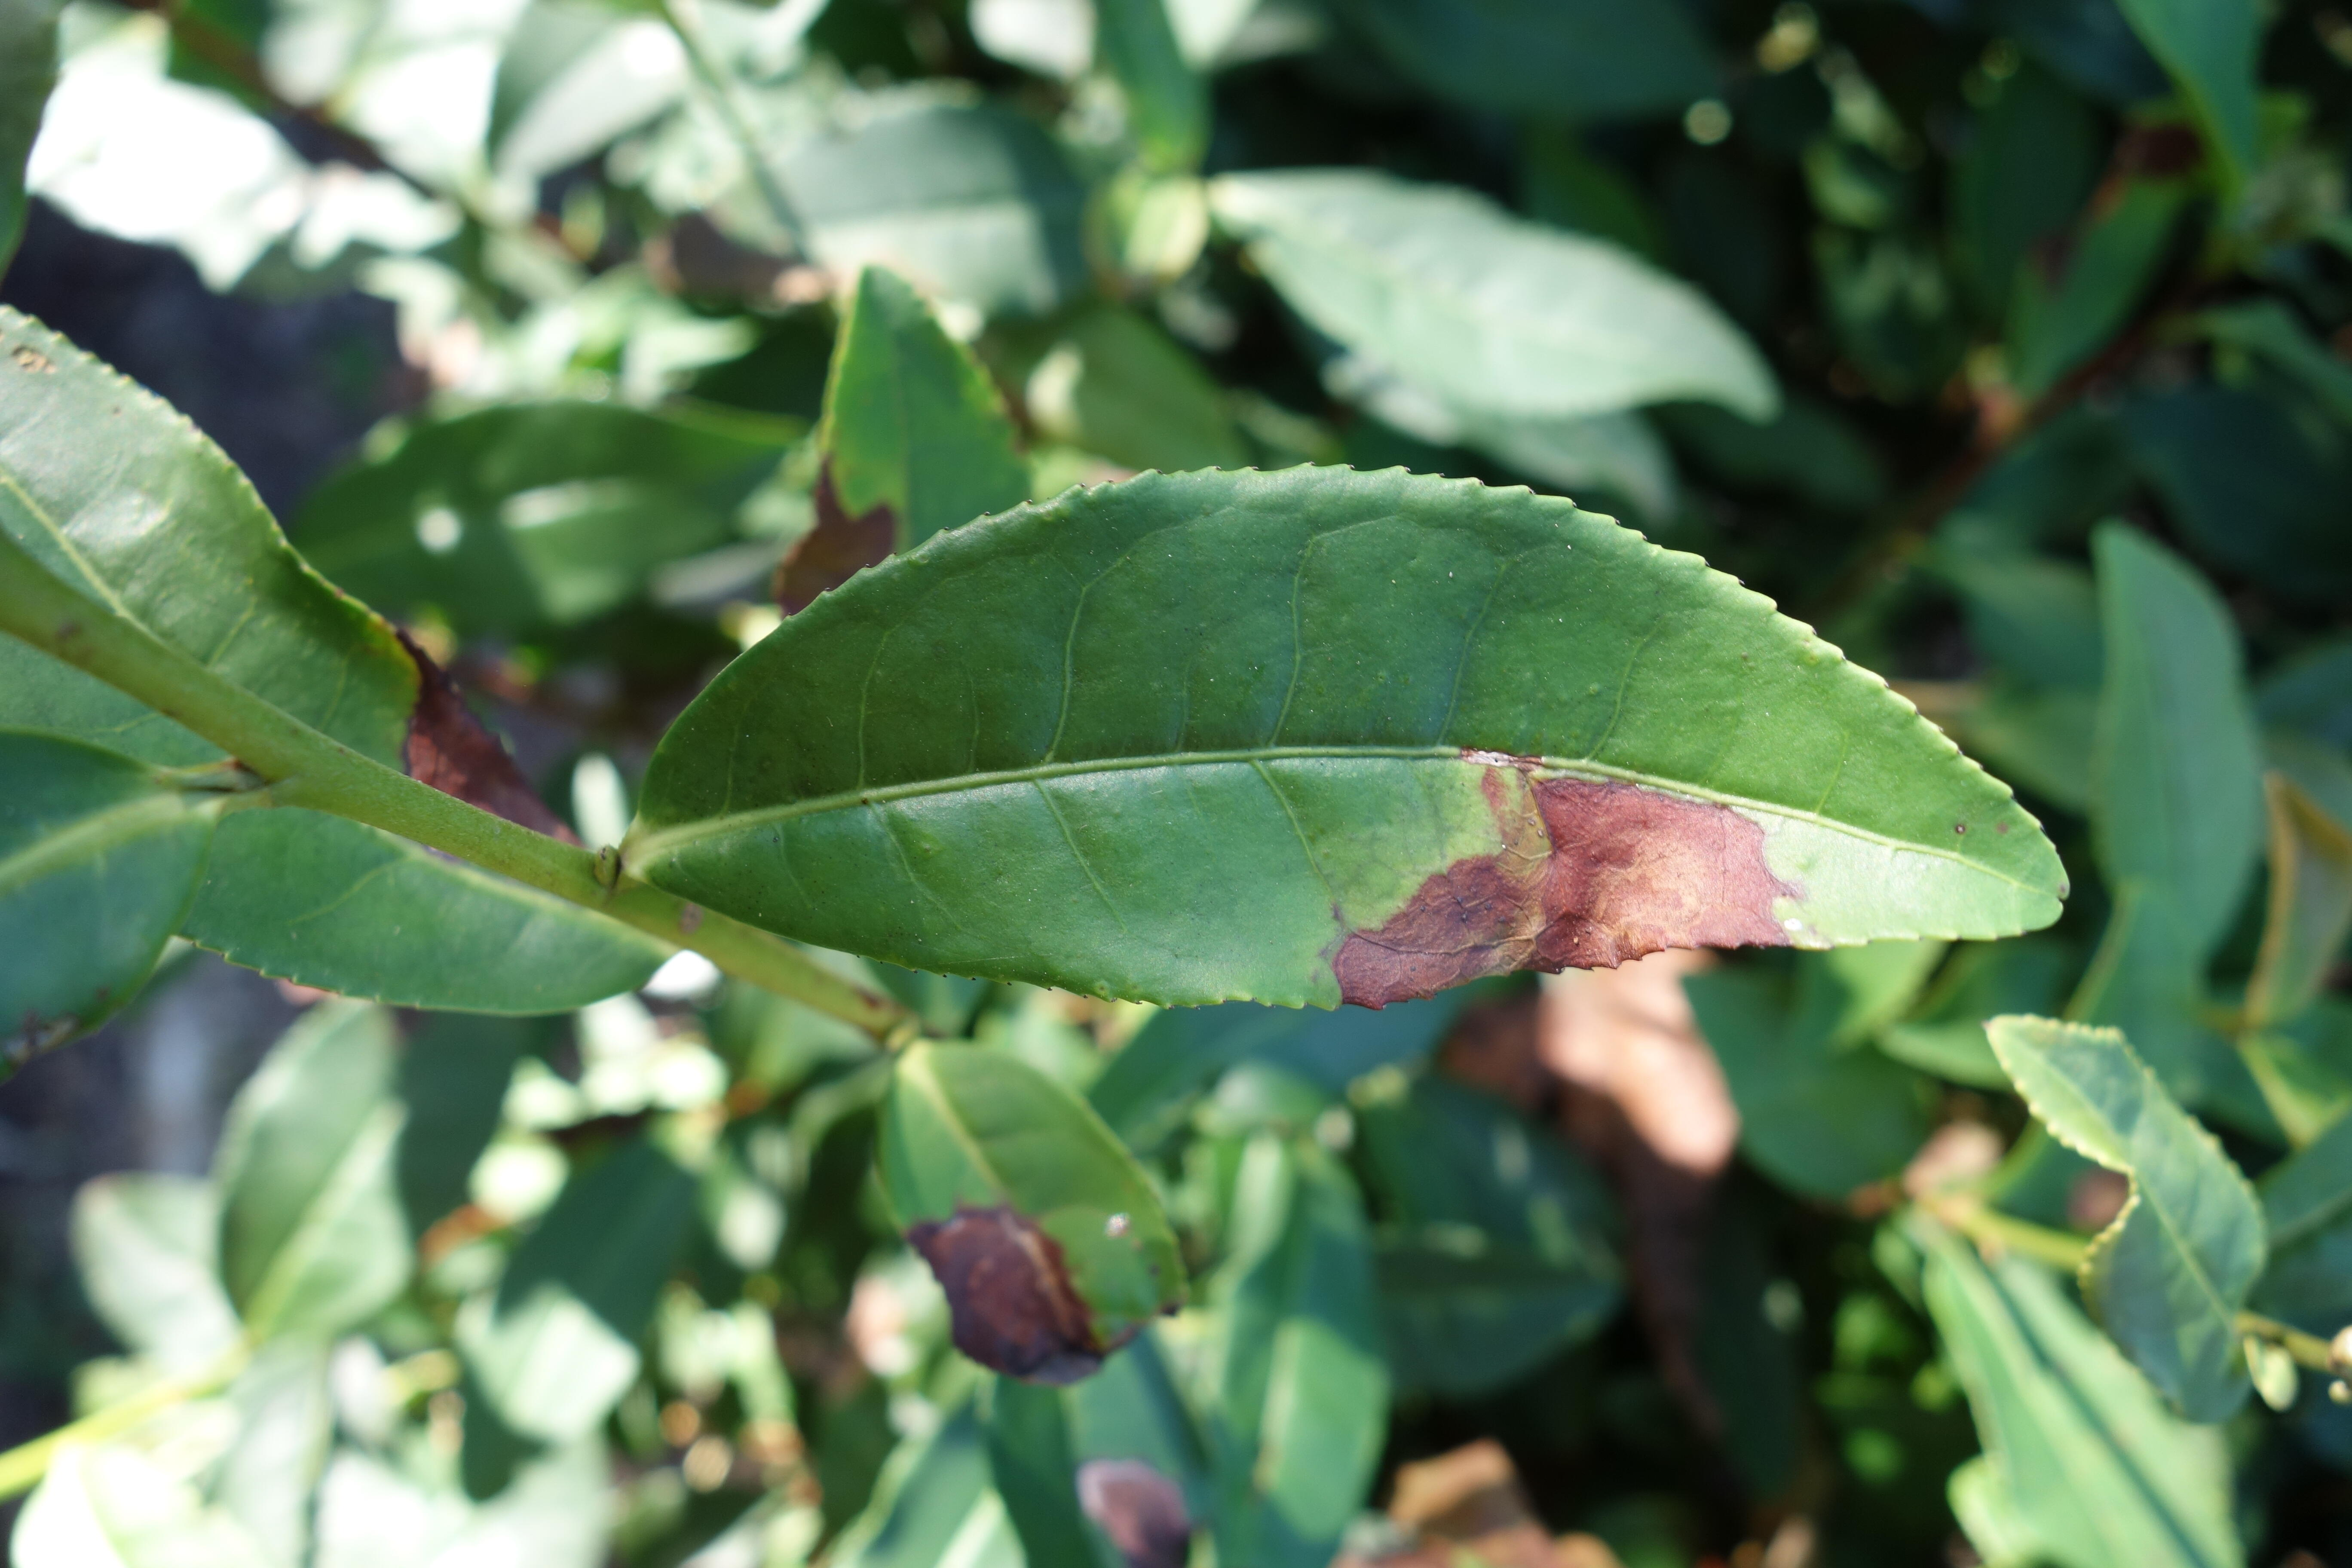tanju_high: (639, 462, 2075, 1008), (3, 315, 682, 1008), (877, 1041, 1190, 1384), (779, 269, 1029, 632)
